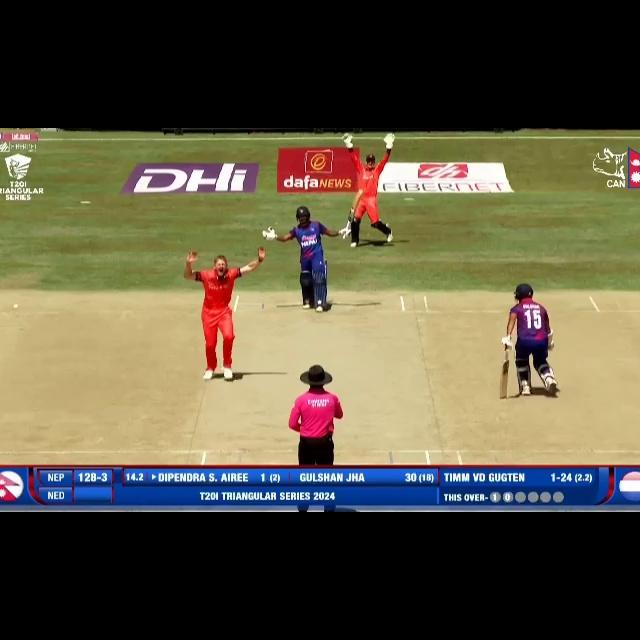umpire: (274, 360, 351, 512)
